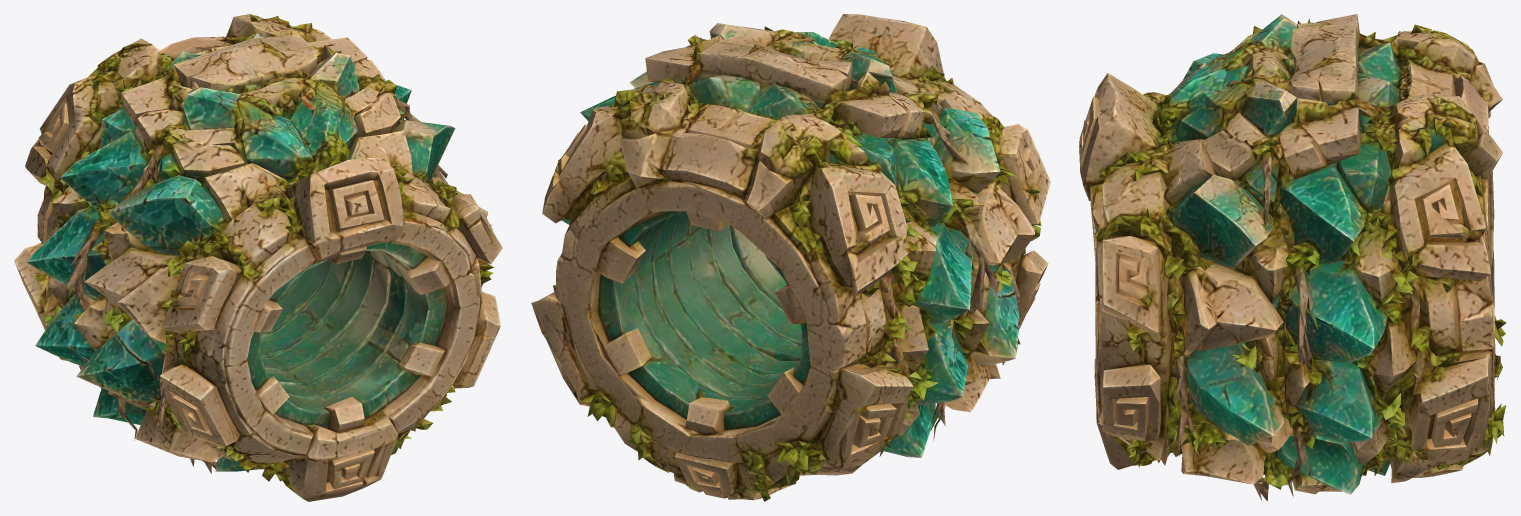
Rendered from m2CoilstoneSegment.glb.
3 renders of one model, left to right at view 1: azimuth 30°, elevation 25°; view 2: azimuth 150°, elevation 25°; view 3: azimuth 270°, elevation 25°, orthographic. The views are drawn at different scales.
Parts seen in each view (by area): view 1: model; view 2: model; view 3: model.
Boxes of the visible parts, left/top/right/bottom form: model: left=14, top=14, right=502, bottom=501; model: left=531, top=14, right=1050, bottom=501; model: left=1079, top=14, right=1506, bottom=501.
Size of the model in its own units: 1.92 by 1.79 by 1.62.
Materials: 1 (1 with a texture image).
